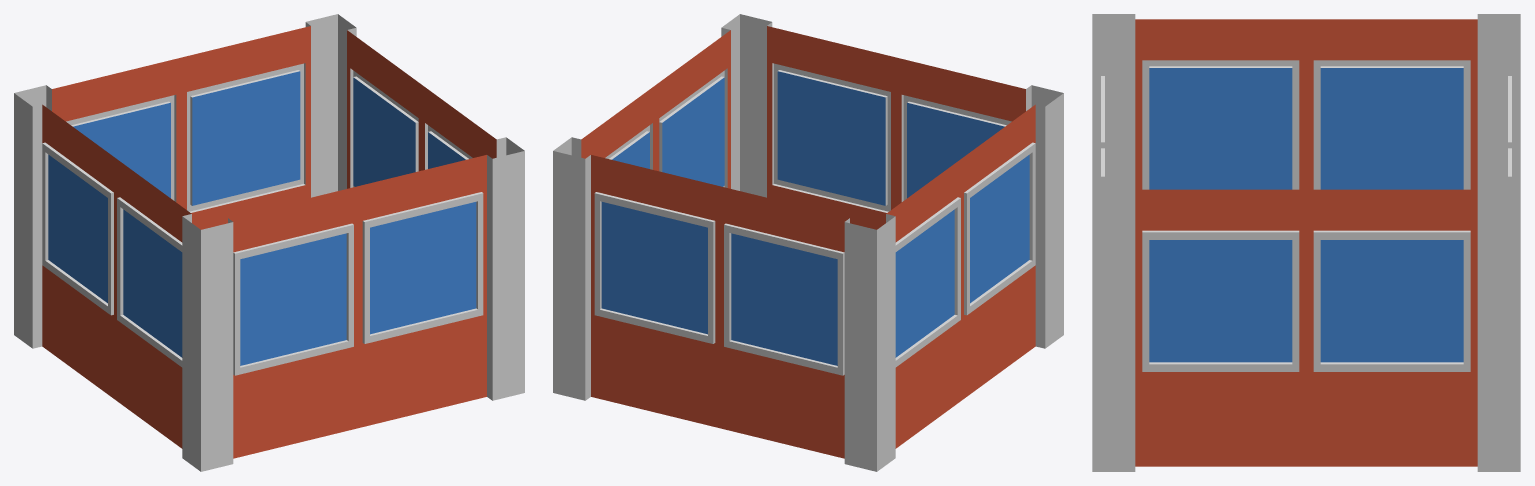
File: 07b_mid.fbx
3 views of the same model, side by side, from view 1: azimuth 30°, elevation 25°; view 2: azimuth 150°, elevation 25°; view 3: azimuth 270°, elevation 25° (orthographic). The views are drawn at different scales.
Parts seen in each view (by area): view 1: 00b_Mid; view 2: 00b_Mid; view 3: 00b_Mid.
Part boxes in pixels (<box>): 00b_Mid: <box>14,14,524,471</box>; 00b_Mid: <box>553,14,1063,471</box>; 00b_Mid: <box>1092,14,1520,471</box>.
Size of the model in its own units: 35 by 35 by 25.
